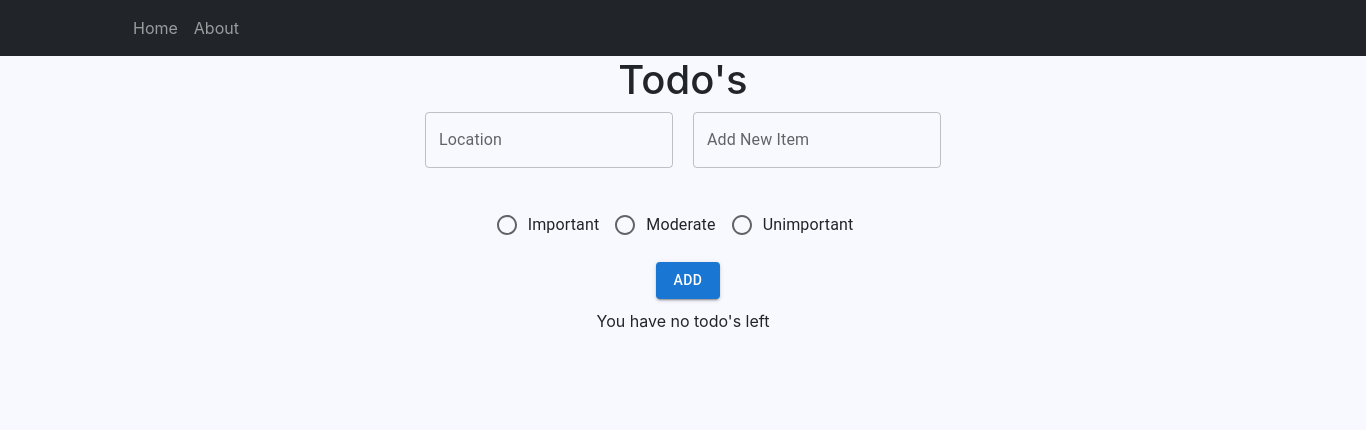
Test: test that App component renders Task
Type "History Test" into the field labelled "Add New Item" at [817, 140], box [693, 112, 941, 168]
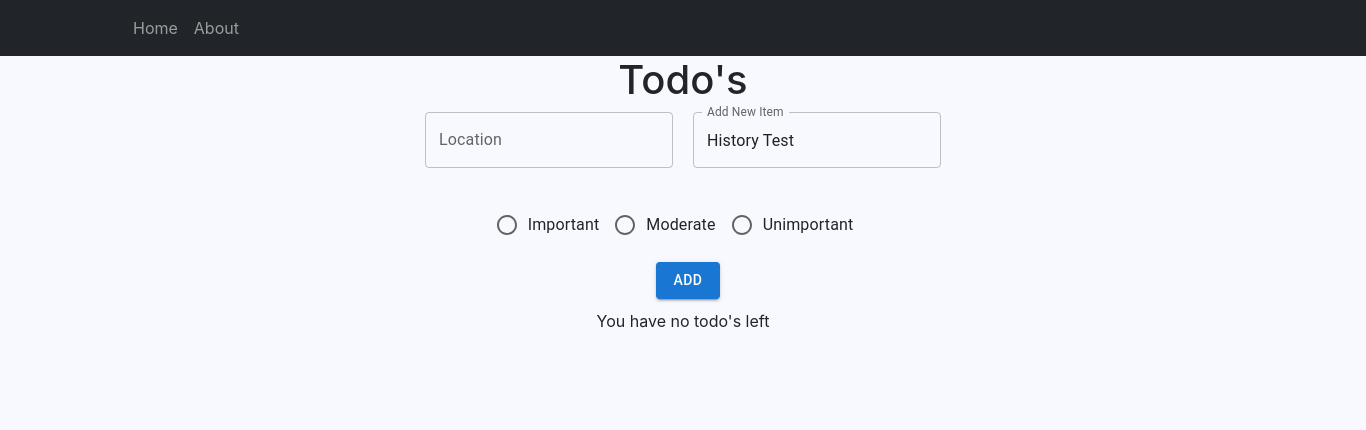
Click the button with test id "new-item-button" at [688, 280], box [656, 262, 720, 298]
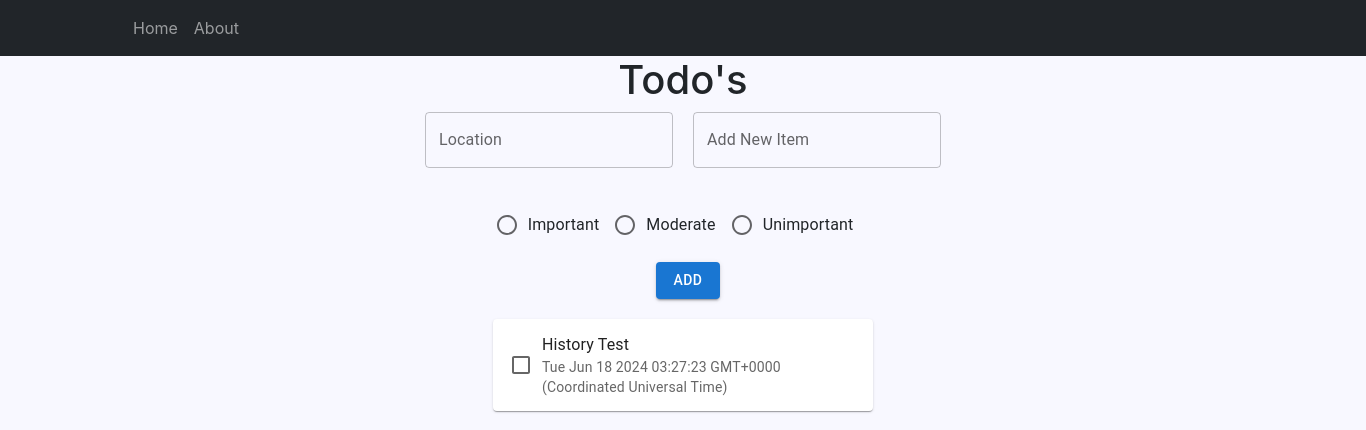
Expected: the text "History Test" is shown, [542, 334, 629, 354]
